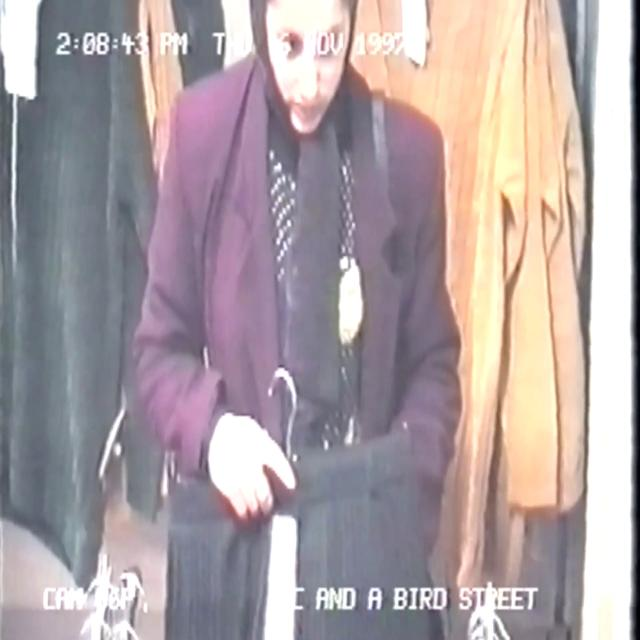Product: (184, 477, 436, 639)
shoplifting: (105, 0, 469, 640)
